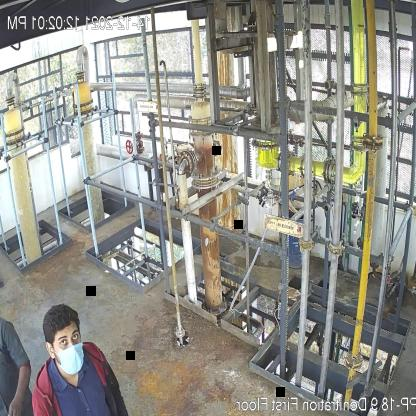no_goggles: (58, 330, 82, 349)
